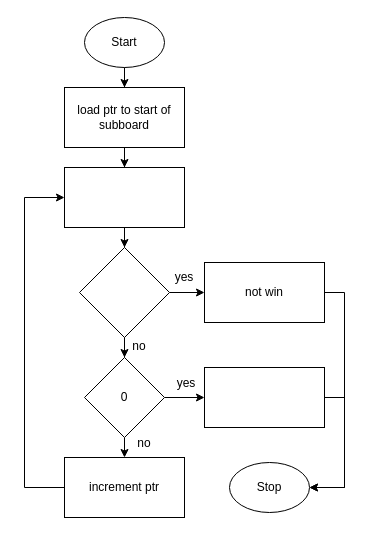
This 370x535 diagram has some shape labels left out. The shapes that lost their labels are listed below. From the top down, each one's box as (x1, y1, x2, y2) in pixels, then its label:
(64, 166, 184, 228): load char on subboard
(78, 246, 170, 338): space
(204, 366, 324, 428): return win
